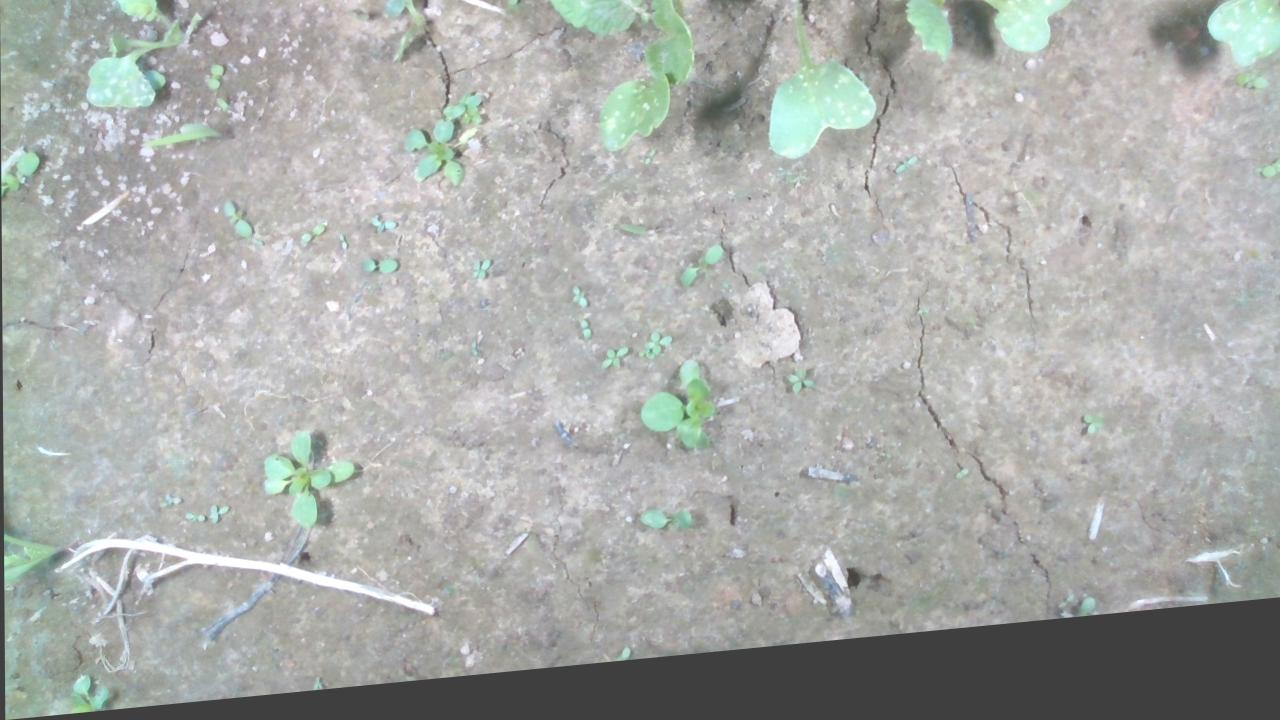weed: (676, 256, 724, 303), (636, 515, 691, 547), (220, 201, 252, 244), (781, 379, 816, 410), (1233, 92, 1270, 120), (357, 260, 400, 284), (598, 355, 630, 384), (465, 265, 491, 293), (567, 294, 590, 324), (367, 219, 397, 242), (203, 64, 224, 95), (1079, 434, 1104, 459), (205, 504, 228, 531), (297, 228, 325, 249), (493, 0, 527, 17), (577, 327, 593, 353), (181, 514, 204, 528), (336, 236, 349, 258), (949, 485, 967, 498)
